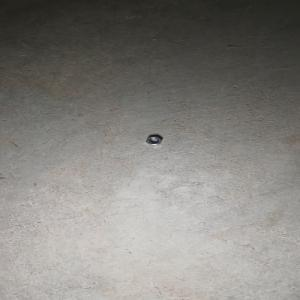Nut: (145, 135, 162, 145)
